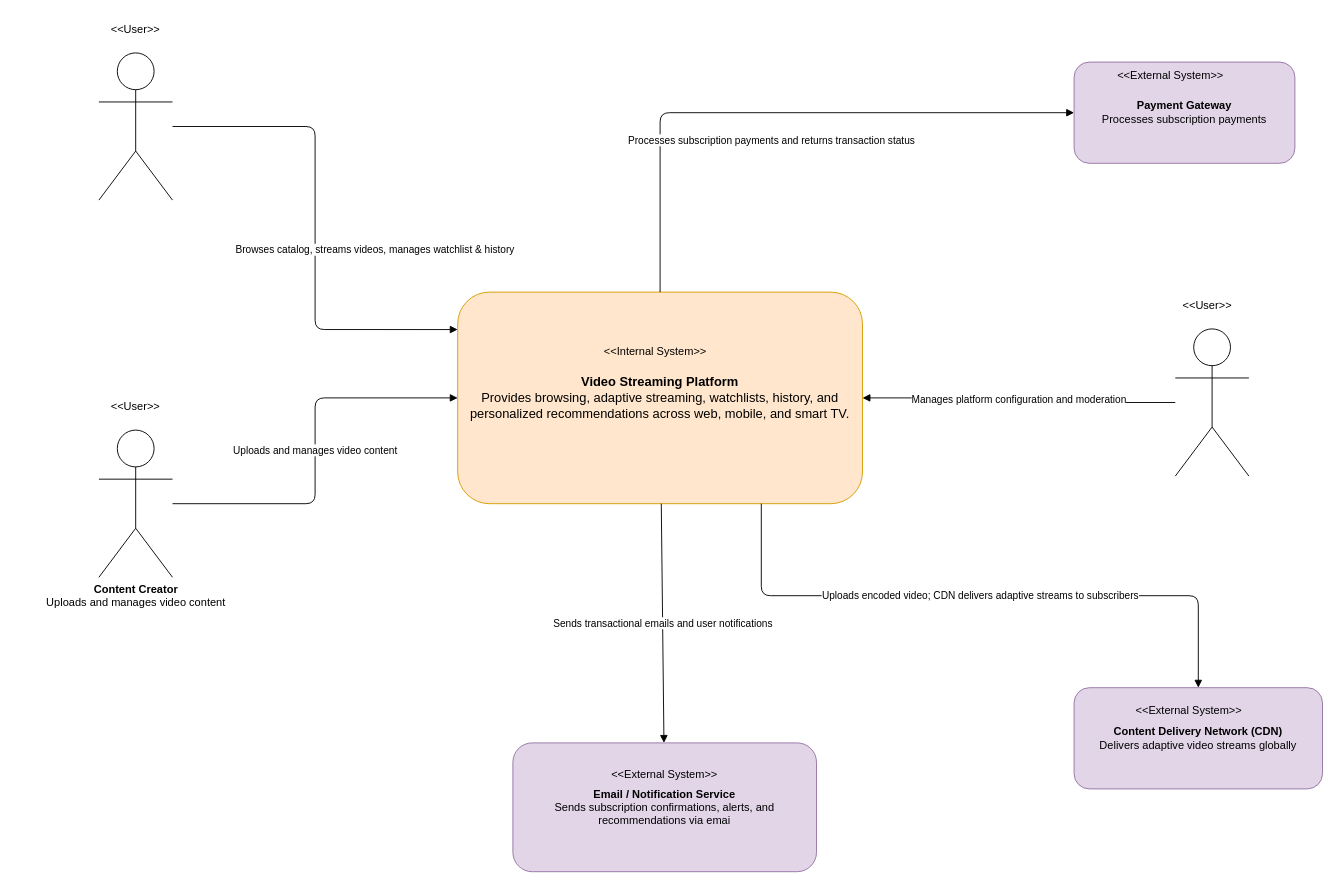
The diagram is 1339 pixels wide and 888 high, and some of its shapes have lost their labels. The box of each missing label's shape, as (x1, y1, x2, y2) in pixels:
Admin Manages users and moderates content: (1174, 328, 1249, 476)
Subscriber Browses, streams, manages watchlist and profile: (98, 52, 172, 200)
